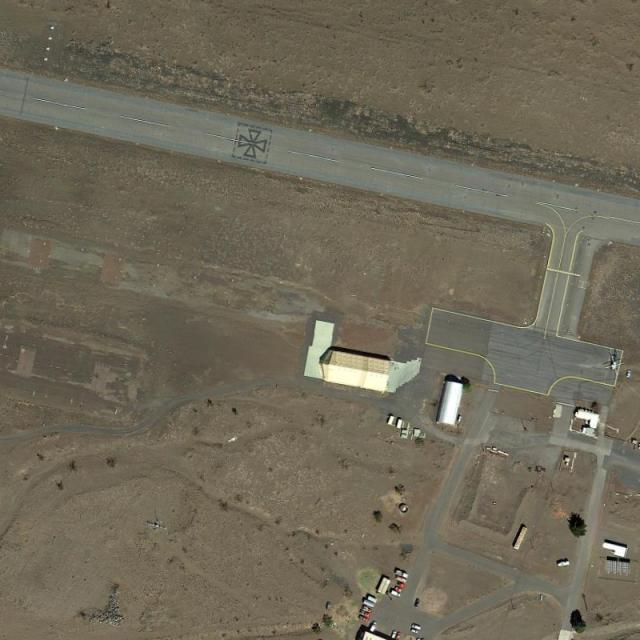vehicle: (359, 610, 371, 618), (370, 622, 378, 634), (390, 590, 401, 598), (358, 614, 369, 622), (361, 606, 373, 613), (394, 586, 404, 594), (412, 623, 422, 631), (558, 561, 570, 567), (414, 598, 421, 608), (392, 630, 398, 640), (395, 632, 402, 640), (626, 370, 632, 379), (410, 629, 419, 634), (417, 638, 422, 640), (421, 639, 426, 640)
